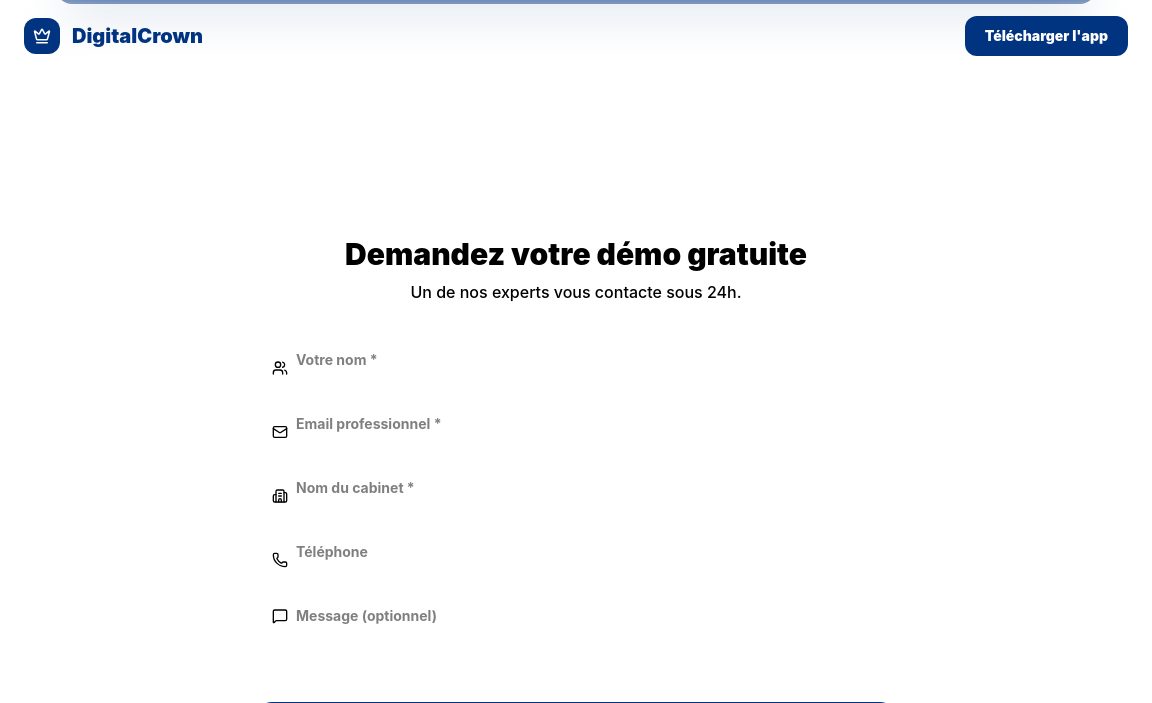
Test: LandingPage G1 interactive matrix › submits exact demo request and renders success only after backend ACK
(page scrolled)
Step 1. Type "Dr Test" into the field with placeholder "Votre nom *" → (576, 360), box [256, 336, 896, 384]
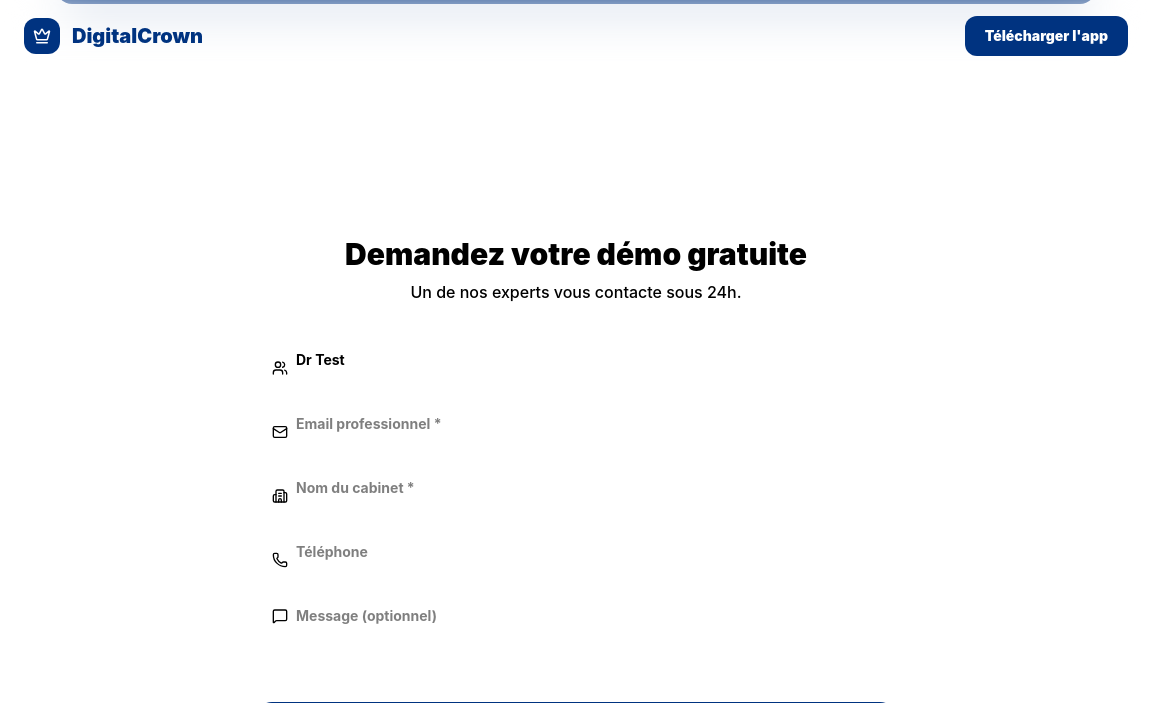
Step 2. Type "test@example.com" into the field with placeholder "Email professionnel *" → (576, 424), box [256, 400, 896, 448]
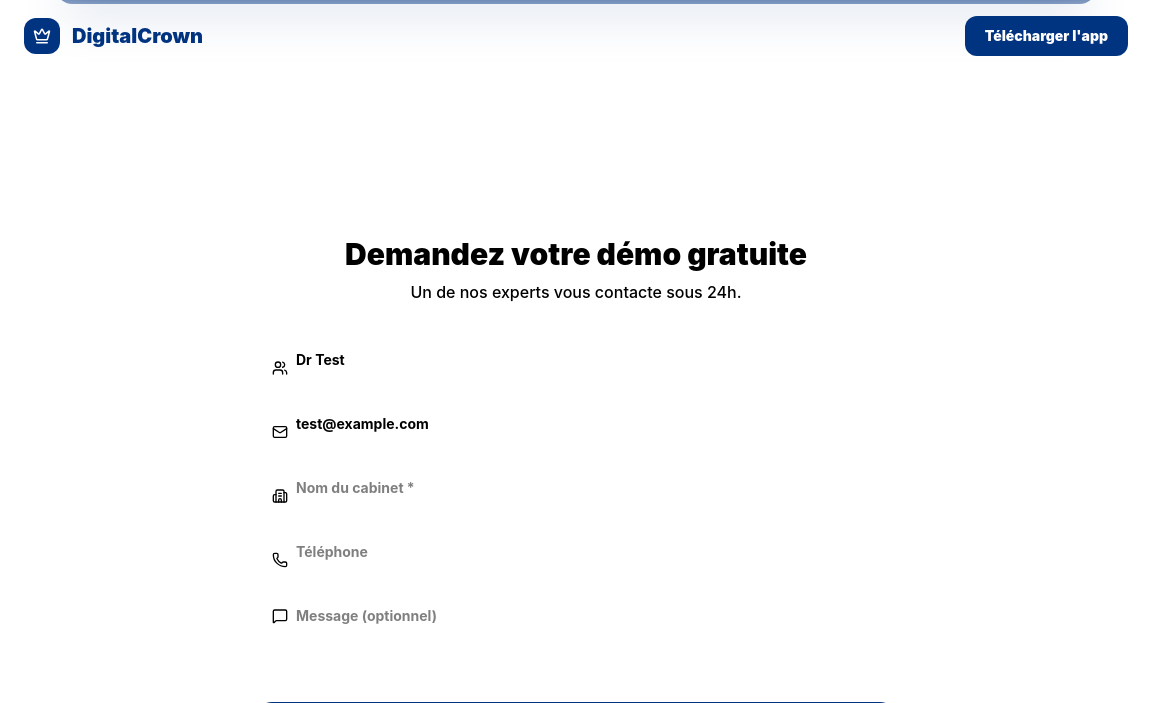
Step 3. Type "Cabinet Test" into the field with placeholder "Nom du cabinet *" → (576, 488), box [256, 464, 896, 512]
(page scrolled)
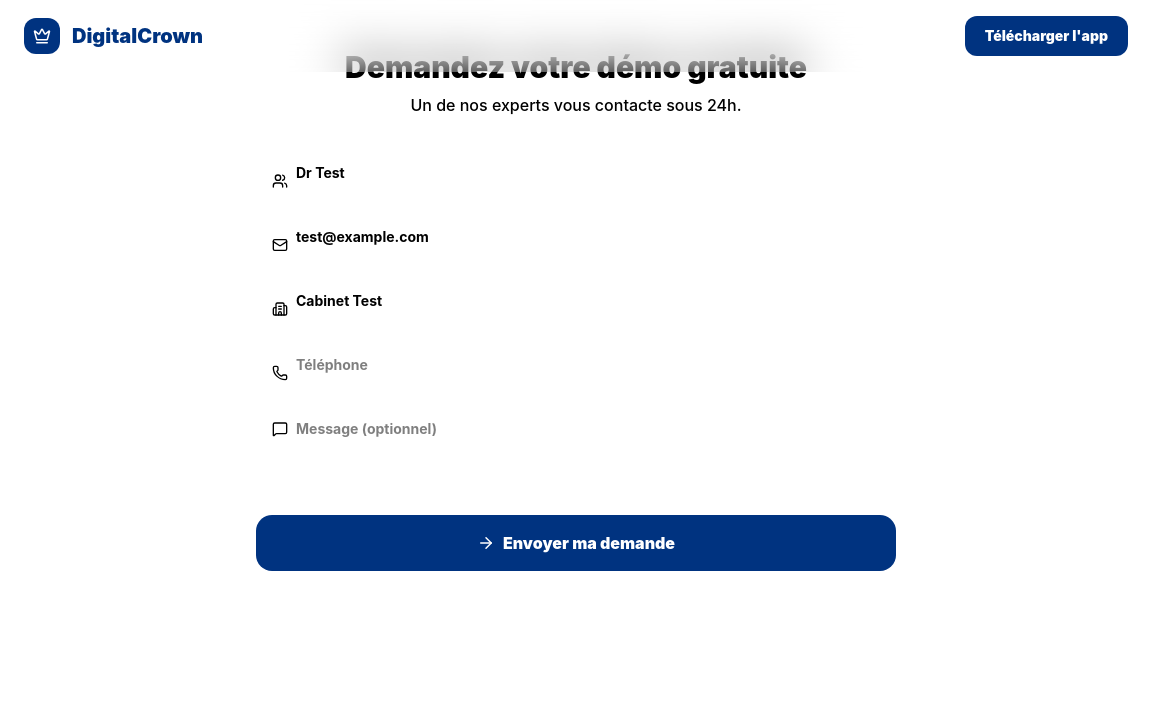
Step 4. Submit the form "Envoyer ma demande", box [256, 149, 896, 571]
(page scrolled)
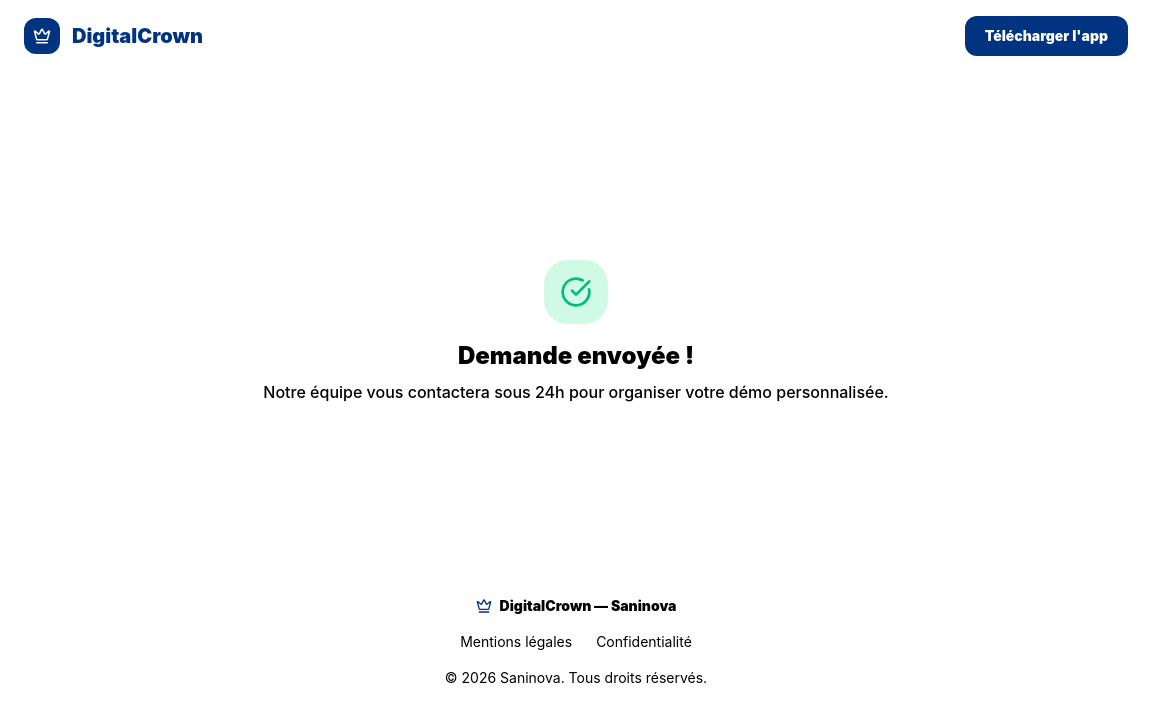
Expected: the heading "Demande envoyée !" is shown, [458, 341, 694, 370]
